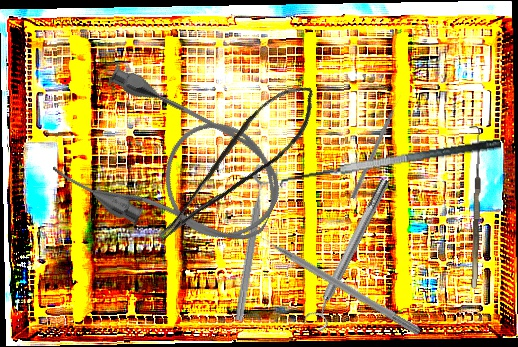Cannula: (45, 58, 301, 278)
Fixation Ring: (300, 174, 399, 334), (230, 164, 281, 323)
Hook Surgical: (463, 125, 483, 289)
Micro Scissor: (131, 72, 335, 249)
Pusher: (247, 224, 423, 337), (350, 94, 404, 200)
Spatula Surgical: (277, 136, 505, 199)
